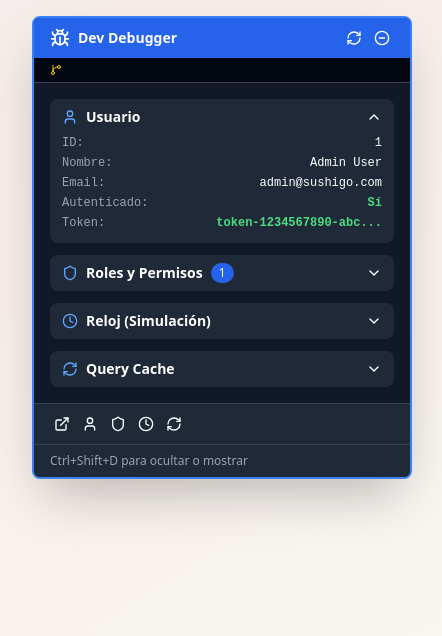
DevDebugger › renders visible by default in development and shows user details
Expected: the text "Dev Debugger" is shown, left=78, top=28, right=177, bottom=48
Click the text "Roles y Permisos" at (144,273), box left=86, top=263, right=203, bottom=283
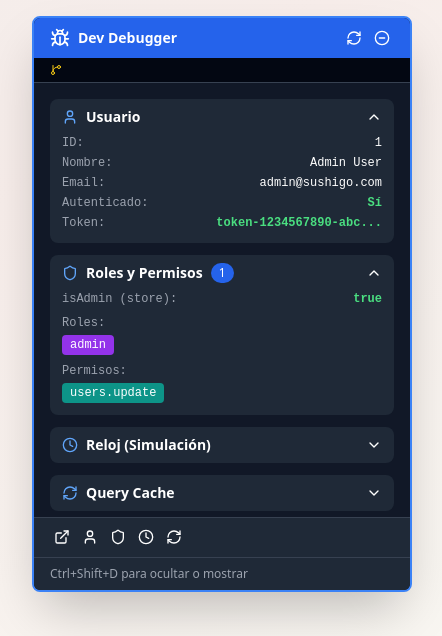
Now the text "users.update" is shown, box left=62, top=383, right=164, bottom=403
